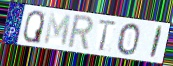I: (148, 25, 165, 61)
M: (42, 12, 72, 48)
O: (116, 22, 141, 57)
Q: (22, 9, 46, 45)
R: (65, 14, 95, 53)
T: (97, 19, 118, 53)
